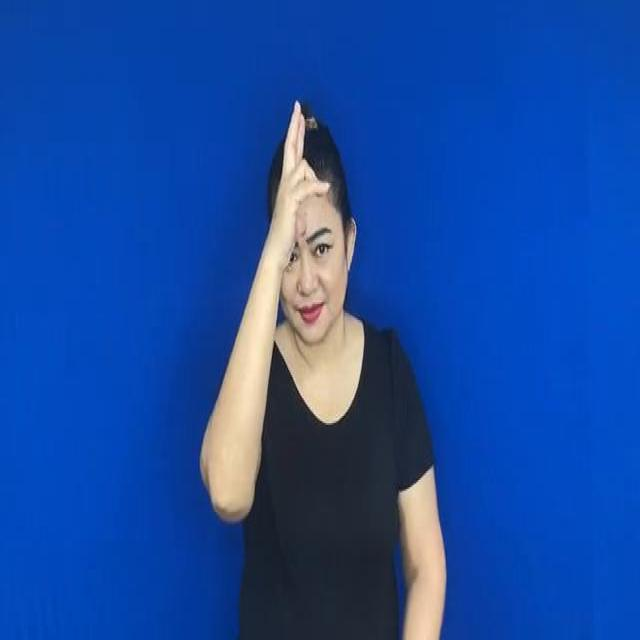chicken: (264, 107, 332, 252)
